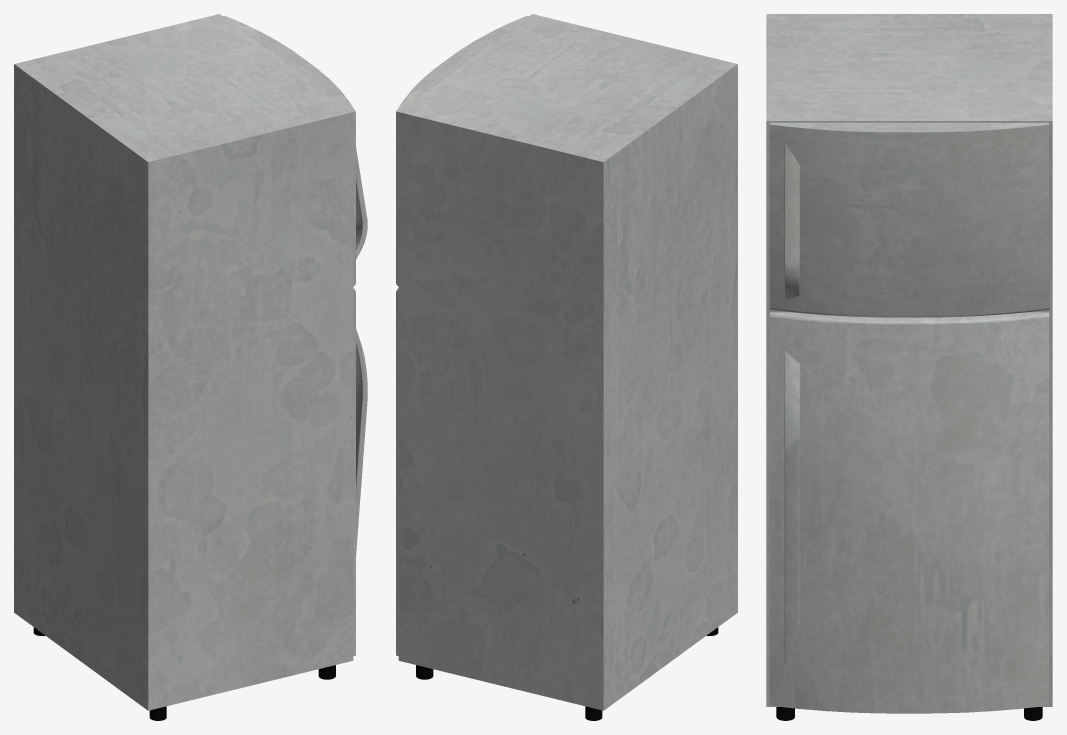
The model's file is Fridge.fbx.
3 views of the same model, side by side, from view 1: azimuth 30°, elevation 25°; view 2: azimuth 150°, elevation 25°; view 3: azimuth 270°, elevation 25° (orthographic). The views are drawn at different scales.
Visible parts, largest first — view 1: Cube.008; view 2: Cube.008; view 3: Cube.008.
Part boxes in pixels (<box>): Cube.008: <box>14,14,367,720</box>; Cube.008: <box>396,14,737,720</box>; Cube.008: <box>766,14,1052,720</box>.
Bounding box in the file's own units: 90.97 × 215 × 92.41.
Materials: 3 (2 with a texture image).
